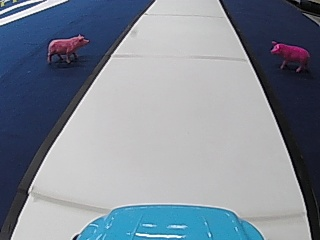pig: (45, 31, 88, 65), (269, 39, 310, 71)
